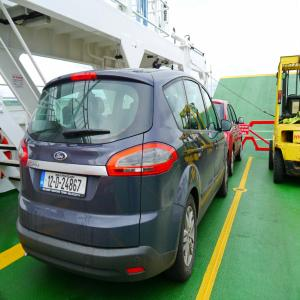Vehicle-registration-plate: (42, 167, 91, 208)
